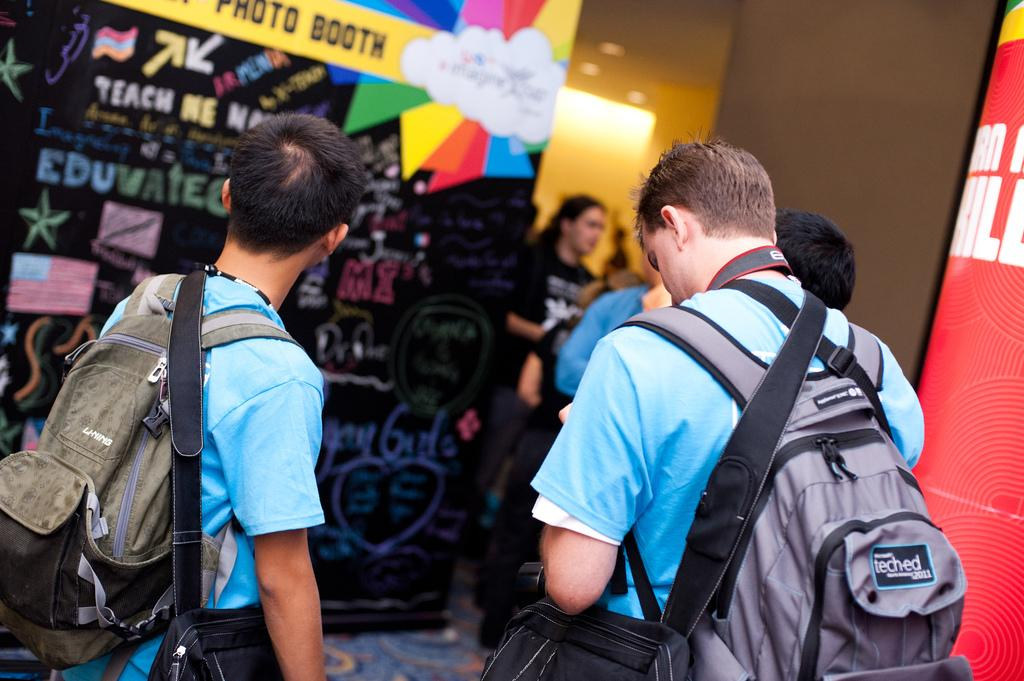Luggage-and-bags: (474, 287, 828, 680), (618, 306, 975, 680), (148, 267, 287, 680)
